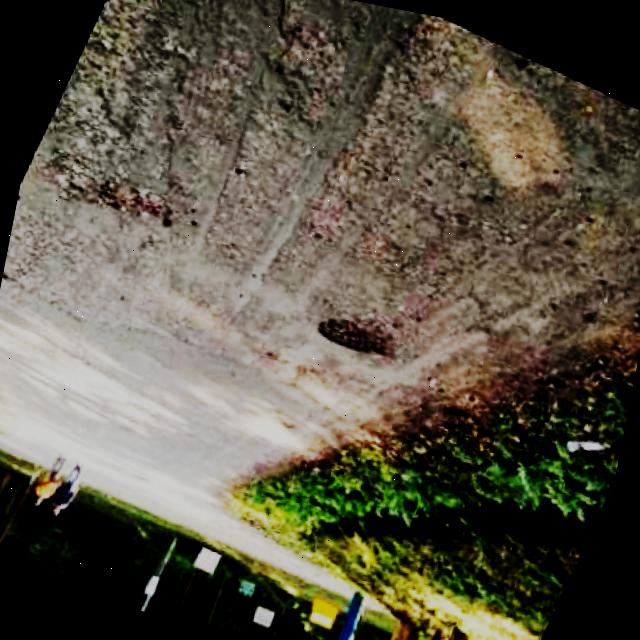pothole: (316, 311, 399, 362), (98, 174, 180, 222)
